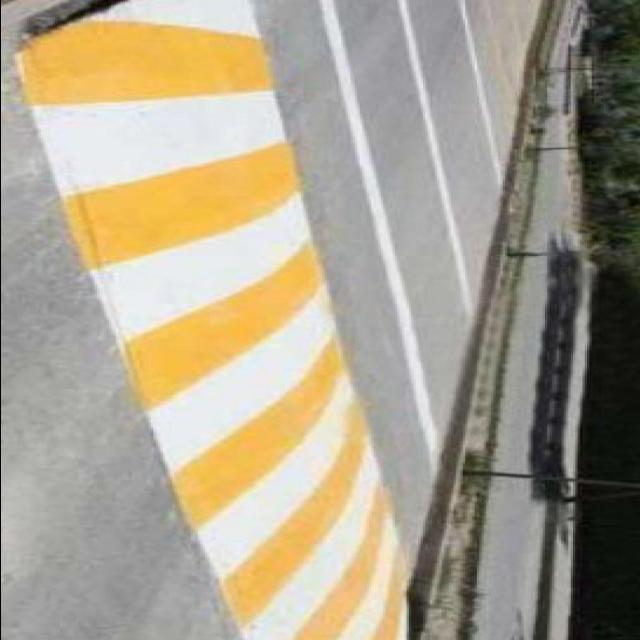Speed_Breaker: (4, 0, 419, 640), (18, 0, 410, 639)
